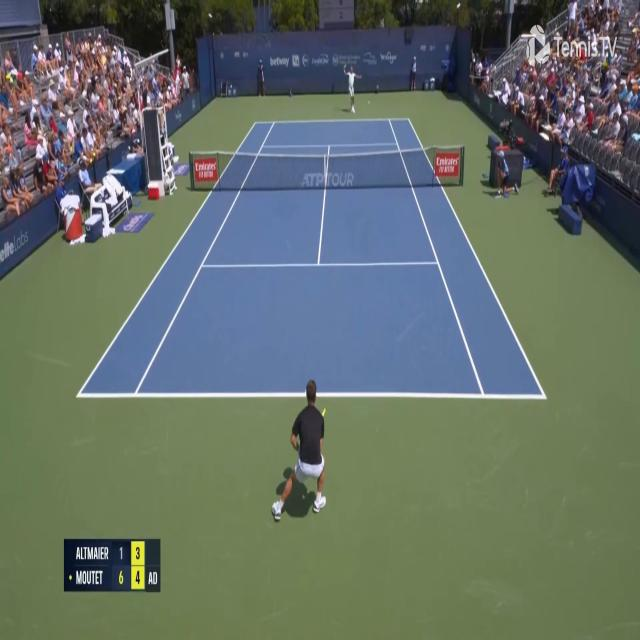tennis-player: (270, 374, 328, 527), (341, 64, 360, 114)
